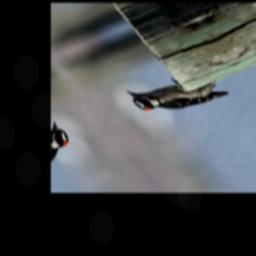Woodpecker: (124, 59, 230, 127)
